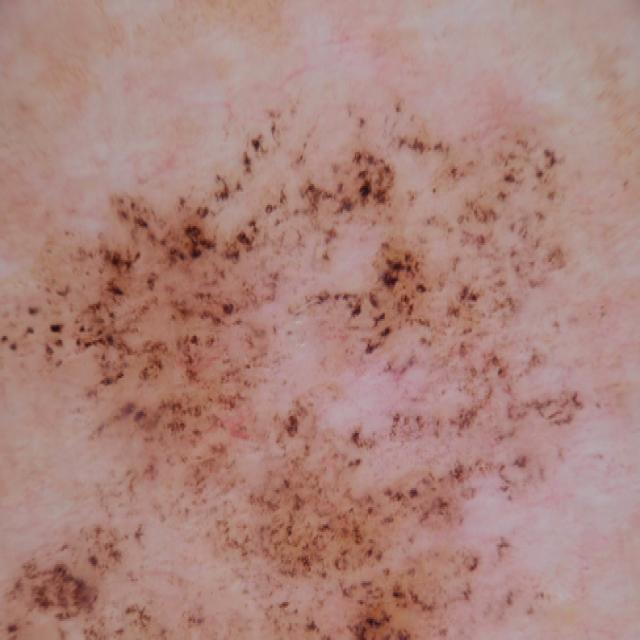Keratosis: (0, 45, 600, 640)
